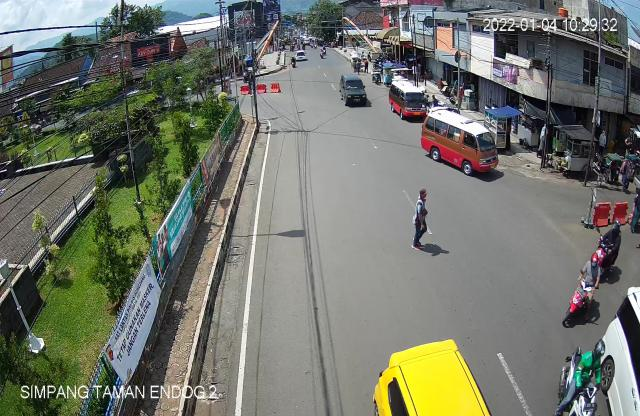Mobil: (365, 337, 491, 416), (419, 99, 505, 185), (597, 292, 640, 416), (547, 336, 600, 416), (333, 69, 377, 118), (387, 80, 428, 124)
Motor: (564, 254, 600, 328), (591, 224, 630, 286)
